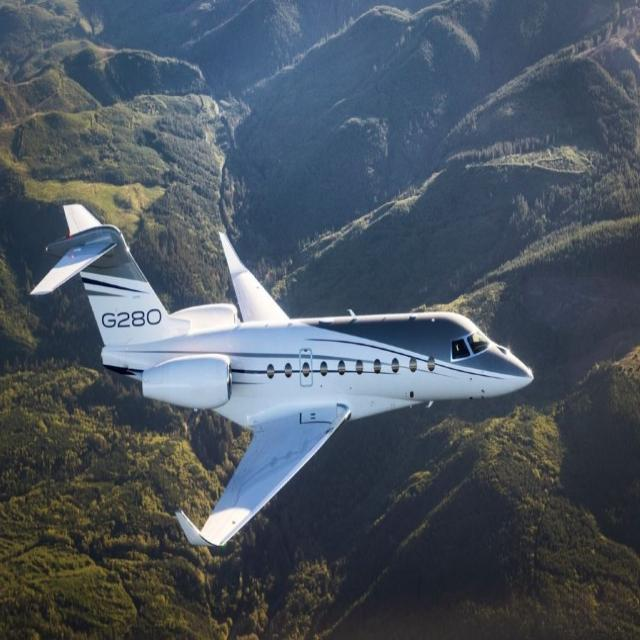jet: (23, 138, 579, 640)
